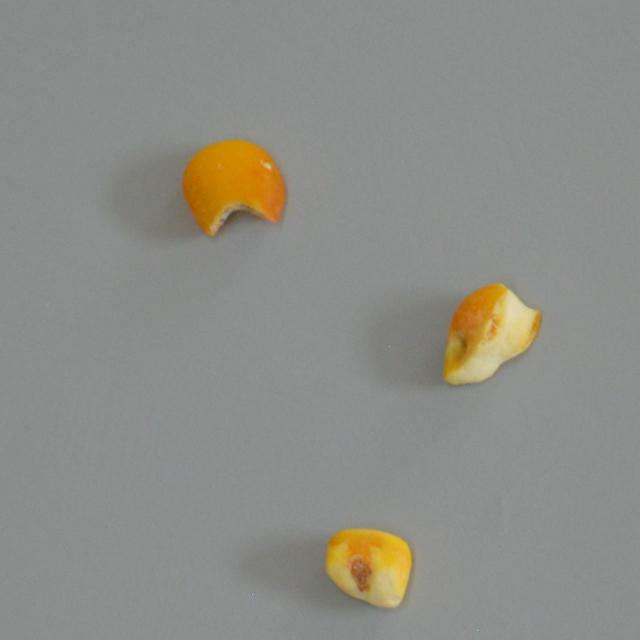dañado: (176, 136, 289, 244), (311, 506, 424, 614), (434, 280, 546, 388)
